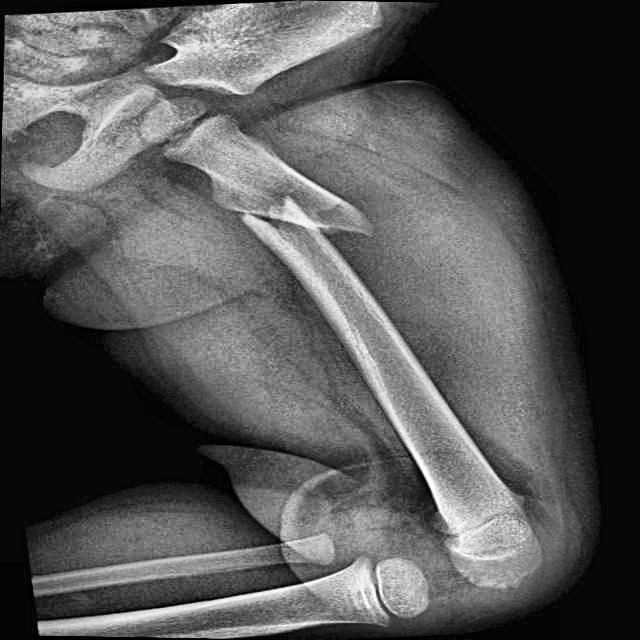Oblique: (207, 159, 395, 257)
